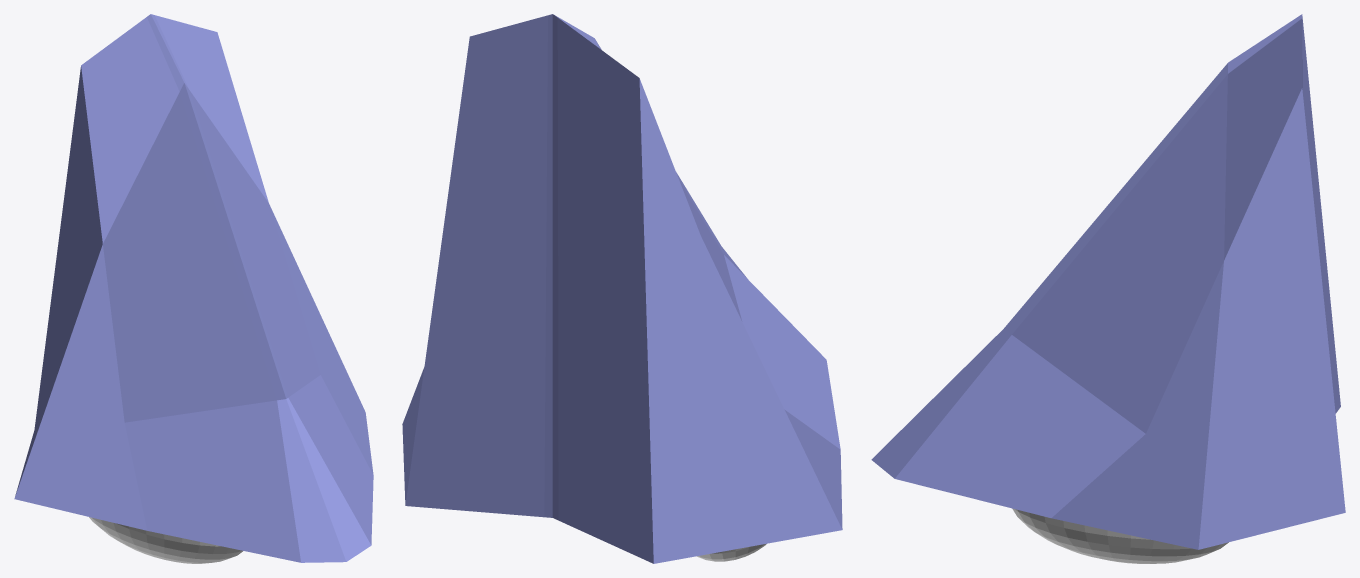
Rendered from Nose 1.fbx.
The picture shows the model from 3 angles, left to right: view 1: azimuth 30°, elevation 25°; view 2: azimuth 150°, elevation 25°; view 3: azimuth 270°, elevation 25°; orthographic projection. The views are drawn at different scales.
Parts seen in each view (by area): view 1: sNOZ, Sphere.001; view 2: sNOZ, Sphere.001; view 3: sNOZ, Sphere.001.
Boxes of the visible parts, box(x1,y1,x2,y2) form: sNOZ: box(14, 14, 373, 562); Sphere.001: box(89, 517, 242, 563); sNOZ: box(402, 14, 842, 563); Sphere.001: box(697, 543, 766, 561); sNOZ: box(871, 14, 1345, 549); Sphere.001: box(1012, 508, 1228, 563).
Size of the model in its own units: 357 by 449 by 378.
